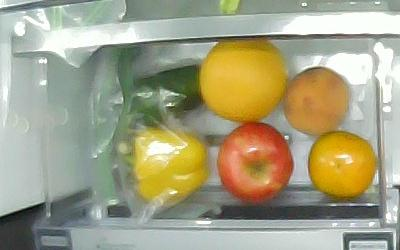apple: (216, 122, 294, 202)
grapefruit: (199, 40, 287, 123)
paprika_vinyl: (125, 129, 210, 205), (127, 64, 204, 127)
peach: (283, 67, 351, 137)
persimmon: (308, 131, 377, 197)
